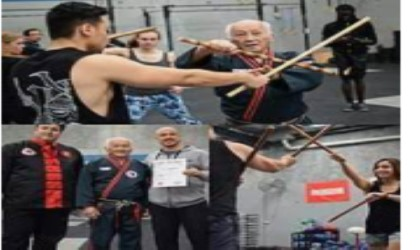baston_e: (232, 16, 363, 97), (184, 38, 326, 72), (328, 194, 374, 222), (291, 124, 330, 157), (288, 126, 332, 155), (241, 129, 271, 165), (107, 26, 152, 38)
baston_v: (224, 92, 236, 100), (328, 66, 336, 78), (364, 14, 374, 23), (149, 23, 159, 31), (175, 34, 185, 42), (265, 123, 274, 131), (325, 218, 332, 225)
